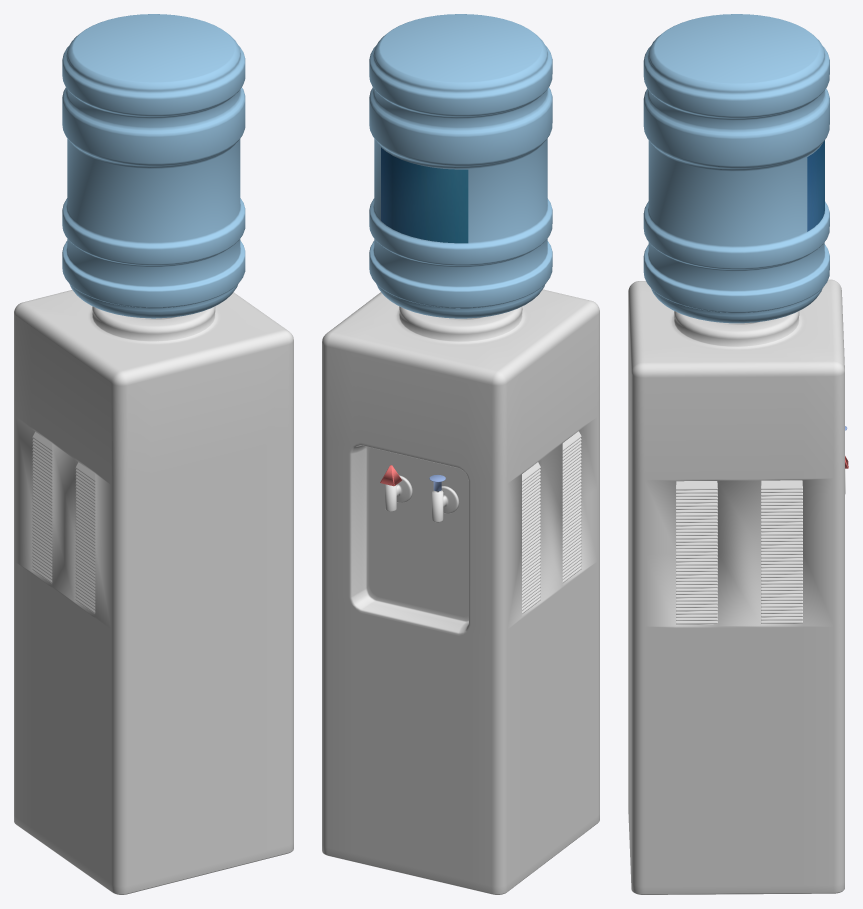
Rendered from Drinking Water Dispenser.glb.
3 views of the same model, side by side, from view 1: azimuth 30°, elevation 25°; view 2: azimuth 150°, elevation 25°; view 3: azimuth 270°, elevation 25° (orthographic).
Visible parts, largest first — view 1: arch20_09012, arch20_09000, arch20_09010, arch20_09011; view 2: arch20_09012, arch20_09000, arch20_09001, arch20_09011, arch20_09010, arch20_09006, arch20_09002; view 3: arch20_09012, arch20_09000, arch20_09008, arch20_09009, arch20_09001.
Boxes of the visible parts, x1,y1,x2,y2 form: arch20_09012: [14, 290, 293, 894]; arch20_09000: [62, 14, 245, 318]; arch20_09010: [32, 431, 52, 583]; arch20_09011: [75, 462, 95, 613]; arch20_09012: [322, 289, 599, 894]; arch20_09000: [369, 14, 552, 318]; arch20_09001: [381, 147, 468, 243]; arch20_09011: [562, 431, 581, 582]; arch20_09010: [522, 462, 540, 613]; arch20_09006: [432, 486, 459, 522]; arch20_09002: [385, 475, 412, 511]; arch20_09012: [628, 279, 844, 894]; arch20_09000: [643, 14, 829, 323]; arch20_09008: [761, 480, 802, 623]; arch20_09009: [676, 481, 717, 624]; arch20_09001: [807, 140, 824, 231].
Bounding box in the file's own units: 17.2 × 70.11 × 17.49.
Materials: 6 (1 with a texture image).
